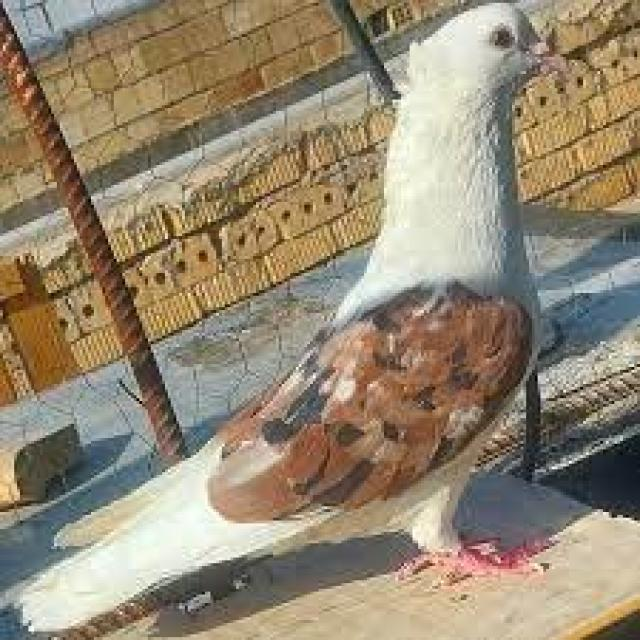bird: (0, 0, 585, 638)
